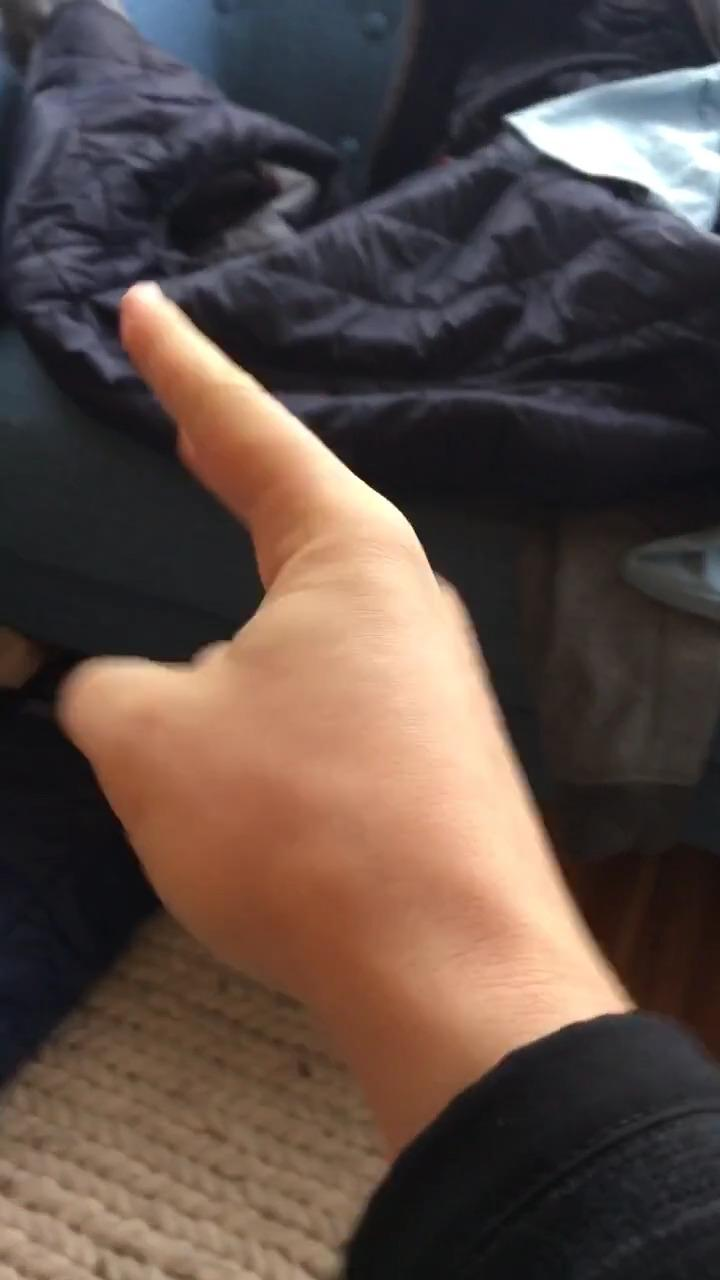Scissors: (58, 286, 554, 1000)
